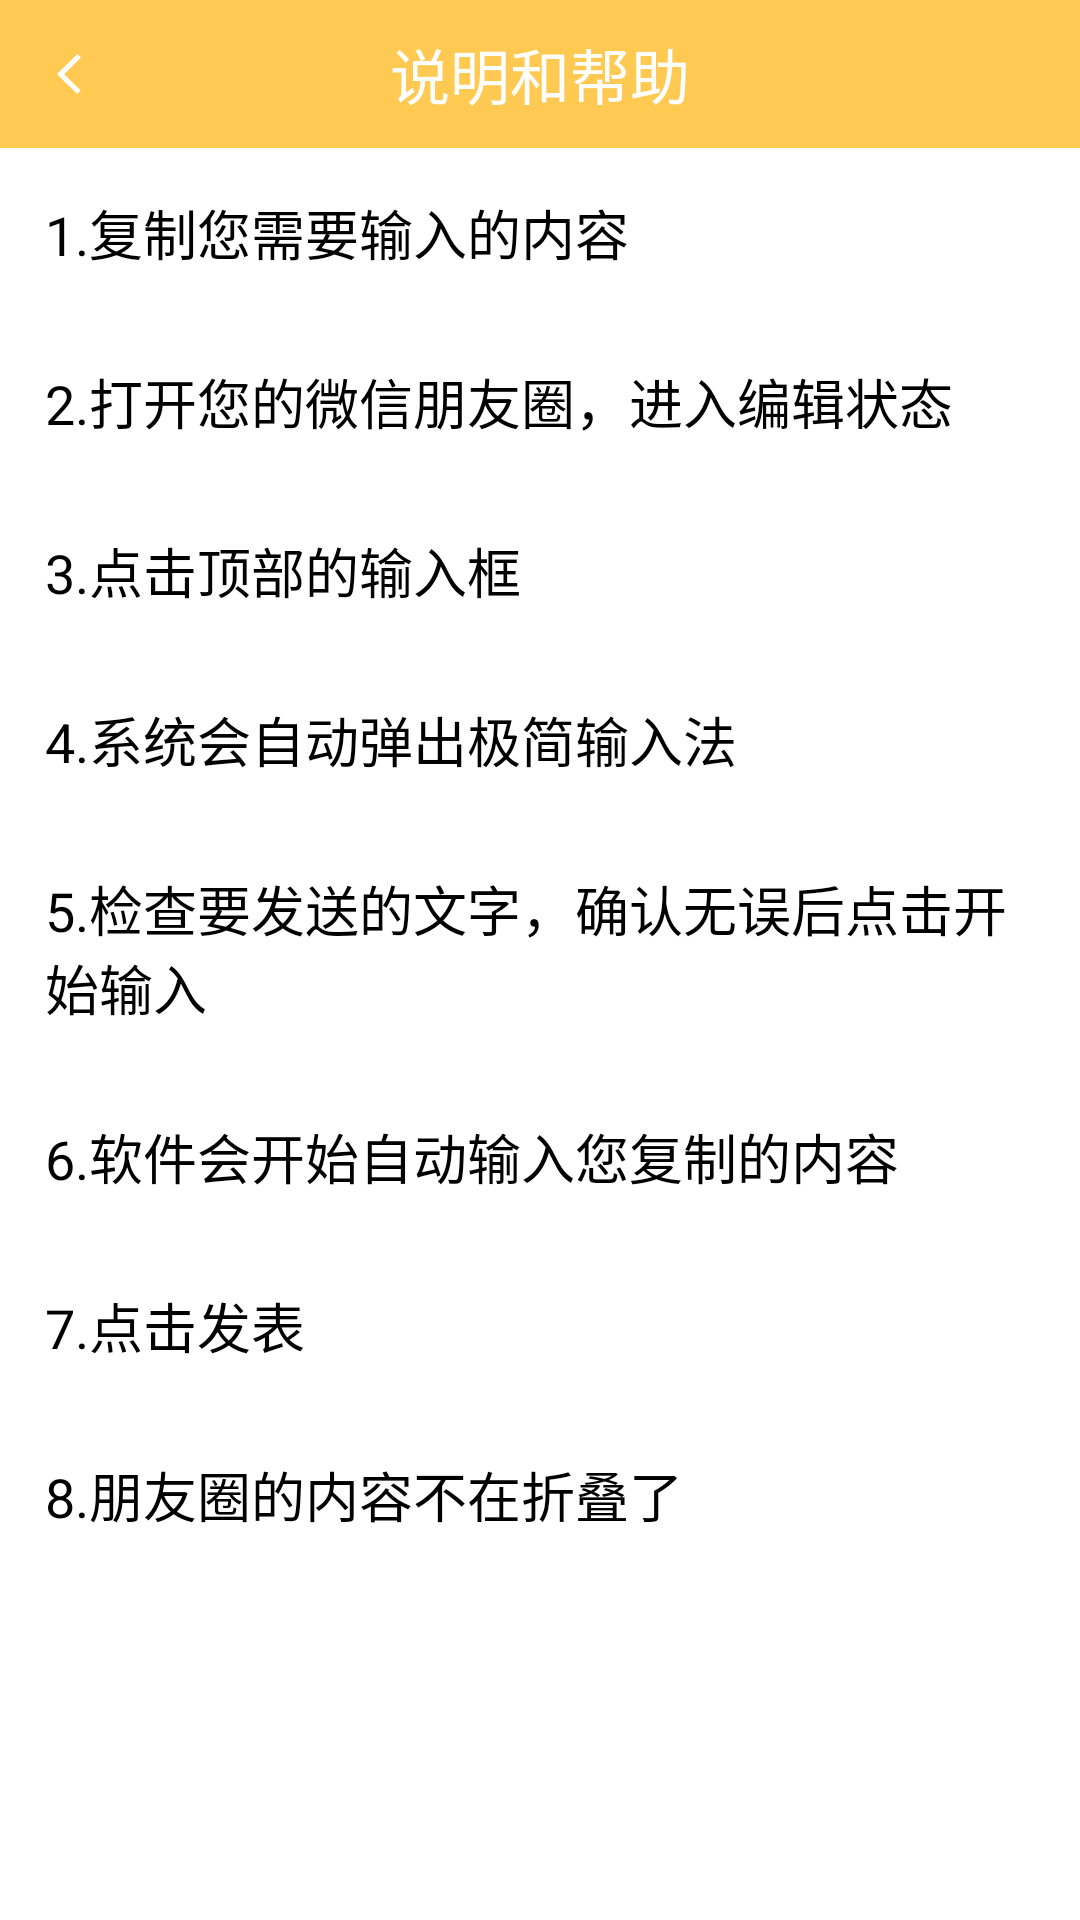

Named icons in this screenshot (1080w x 1920h) and their bounding boxes, (x1, y1, x2, y2):
back: (57, 54, 81, 94)
